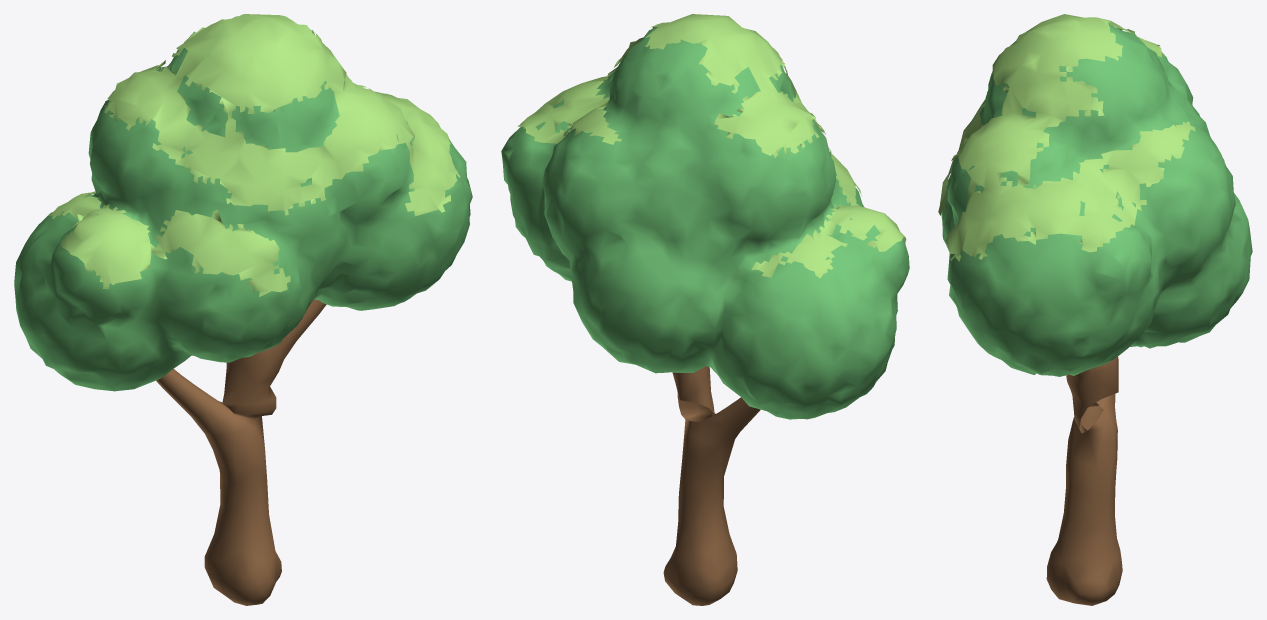
Rendered from MeadowTree.fbx.
The picture shows the model from 3 angles, left to right: view 1: azimuth 30°, elevation 25°; view 2: azimuth 150°, elevation 25°; view 3: azimuth 270°, elevation 25°; orthographic projection.
Visible parts, largest first — view 1: TreeLeaves, TreeLeavesTop, TreeTrunk; view 2: TreeLeaves, TreeLeavesTop, TreeTrunk; view 3: TreeLeaves, TreeLeavesTop, TreeTrunk.
Part boxes in pixels (<box>): TreeLeaves: <box>14,16,472,391</box>; TreeLeavesTop: <box>48,14,460,296</box>; TreeTrunk: <box>156,299,326,605</box>; TreeLeaves: <box>501,27,909,419</box>; TreeLeavesTop: <box>517,14,906,278</box>; TreeTrunk: <box>663,366,760,605</box>; TreeLeaves: <box>941,23,1252,376</box>; TreeLeavesTop: <box>938,14,1195,261</box>; TreeTrunk: <box>1046,356,1122,605</box>.
Bounding box in the file's own units: 2128 × 2966 × 1451.
